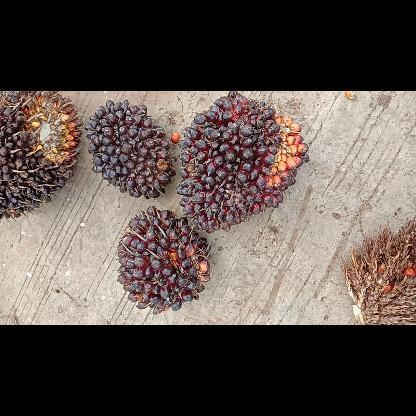TBS mentah: (176, 90, 312, 233), (112, 202, 212, 316), (82, 96, 178, 200)
